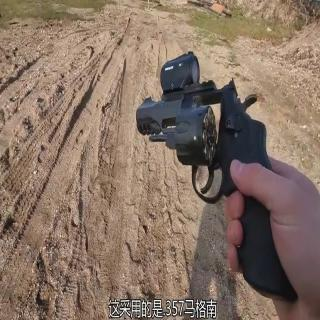gun: (134, 64, 290, 297)
